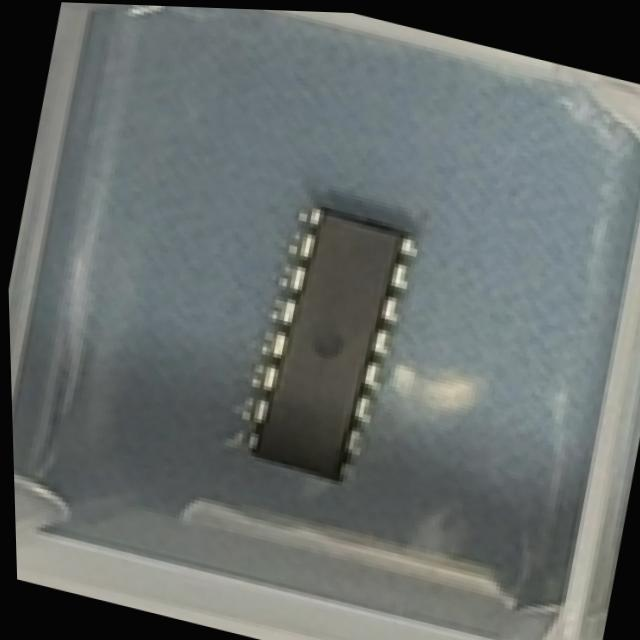IC: (228, 186, 435, 499)
